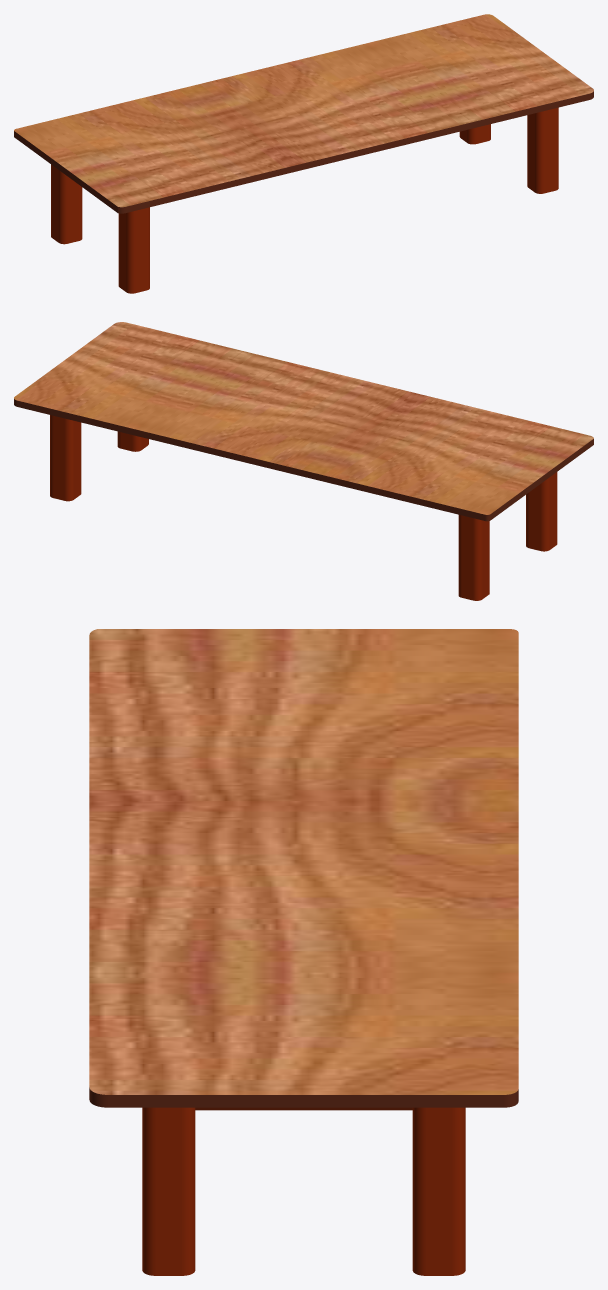
The model's file is table.dae.
3 views of the same model, one above another, from view 1: azimuth 30°, elevation 25°; view 2: azimuth 150°, elevation 25°; view 3: azimuth 270°, elevation 25° (orthographic). The views are drawn at different scales.
Parts seen in each view (by area): view 1: Component_1; view 2: Component_1; view 3: Component_1.
Boxes of the visible parts, x1,y1,x2,y2 form: Component_1: (14,14,593,293); Component_1: (14,322,593,600); Component_1: (89,629,518,1275).
Size of the model in its own units: 97.62 by 38 by 19.88.
